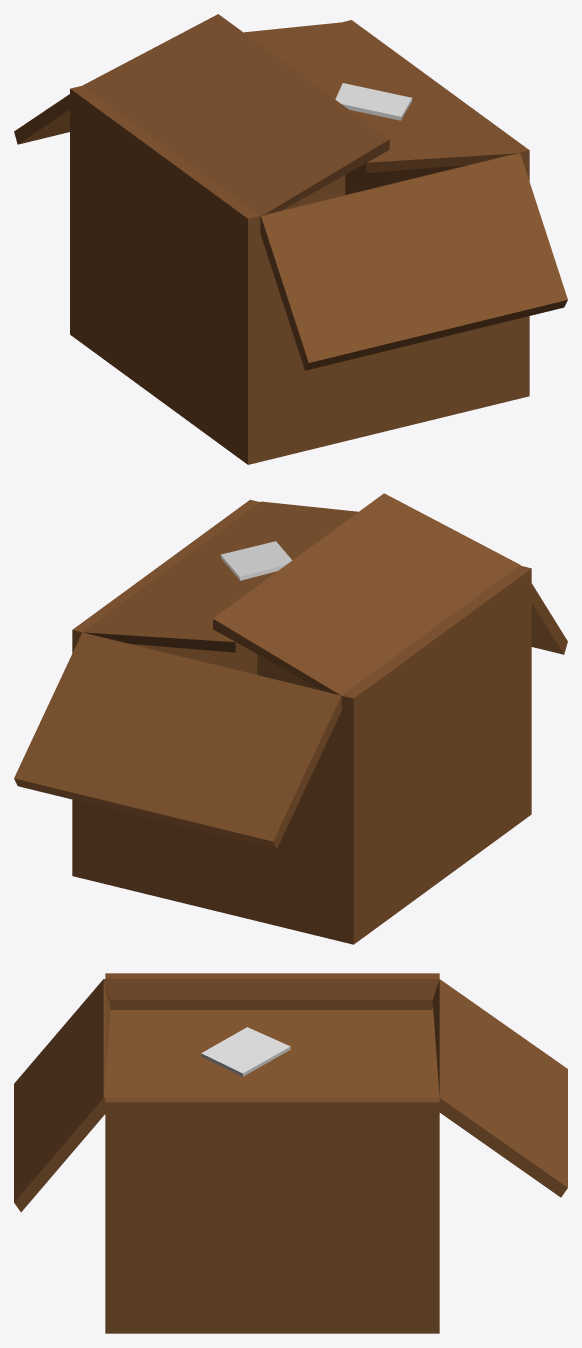
File: boxwithnote.fbx
3 views of the same model, one above another, from view 1: azimuth 30°, elevation 25°; view 2: azimuth 150°, elevation 25°; view 3: azimuth 270°, elevation 25° (orthographic). The views are drawn at different scales.
Parts seen in each view (by area): view 1: Cube; view 2: Cube; view 3: Cube.
Boxes of the visible parts, x1,y1,x2,y2 form: Cube: [14, 14, 567, 464]; Cube: [14, 493, 567, 944]; Cube: [14, 973, 567, 1333].
Size of the model in its own units: 407 by 398 by 739.
